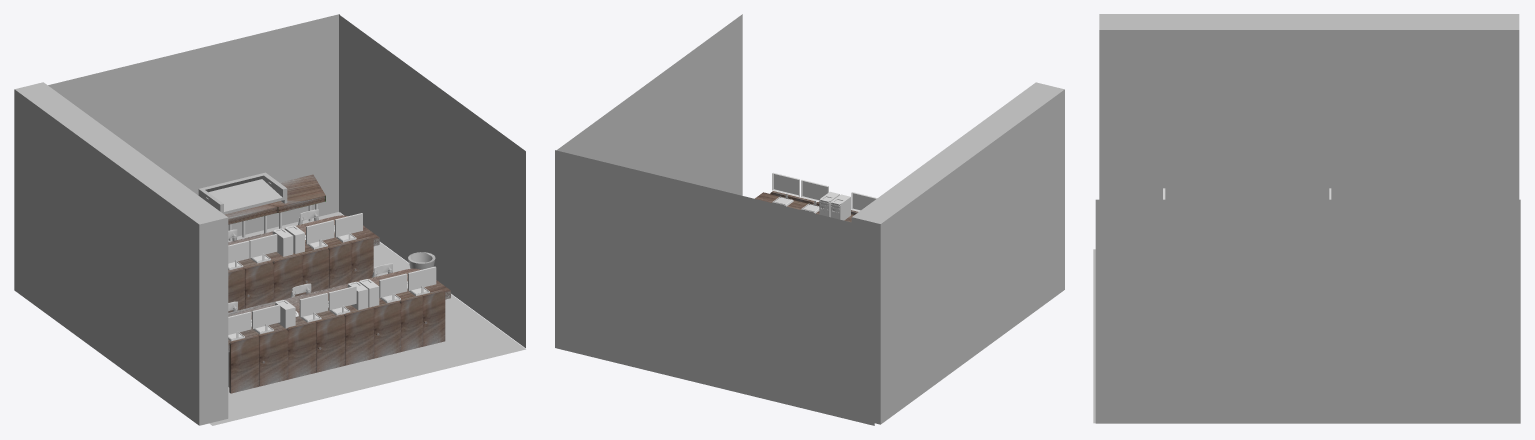
3 renders of one model, left to right at view 1: azimuth 30°, elevation 25°; view 2: azimuth 150°, elevation 25°; view 3: azimuth 270°, elevation 25°, orthographic. The views are drawn at different scales.
Visible parts, largest first — view 1: left wall, backwall, rightwall, floor, entrance door, Book_Holder, Table_Top_Row_2, Box030, Box034, Wire_Locker_3_Row_2, Wire_Locker_4_Row_2, Box032 (+20 smaller); view 2: backwall, left wall, rightwall, Naledi_Screen_1; view 3: rightwall, left wall, floor.
Part boxes in pixels (x1,y1,x2,y2): left wall: [14, 82, 228, 425]; backwall: [48, 14, 339, 236]; rightwall: [339, 14, 525, 347]; floor: [209, 212, 525, 425]; entrance door: [366, 77, 403, 258]; Book_Holder: [198, 172, 287, 214]; Table_Top_Row_2: [228, 268, 450, 352]; Box030: [229, 334, 259, 393]; Box034: [344, 307, 374, 365]; Wire_Locker_3_Row_2: [315, 314, 345, 372]; Wire_Locker_4_Row_2: [258, 328, 288, 386]; Box032: [286, 321, 316, 379]; backwall: [555, 150, 874, 425]; left wall: [851, 82, 1064, 424]; rightwall: [556, 14, 742, 195]; Naledi_Screen_1: [772, 172, 799, 196]; rightwall: [1095, 199, 1520, 423]; left wall: [1099, 14, 1519, 199]; floor: [1093, 249, 1095, 423].
Bounding box in the file's own units: 114 × 68.15 × 114.
